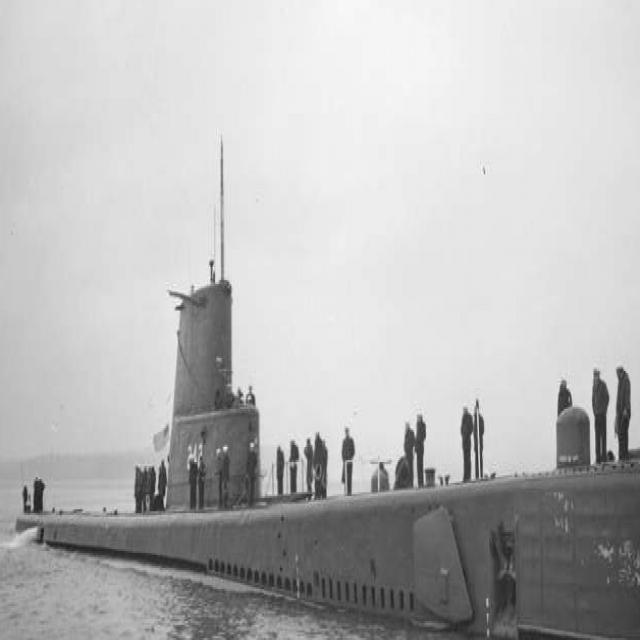submarine: (17, 283, 640, 640)
